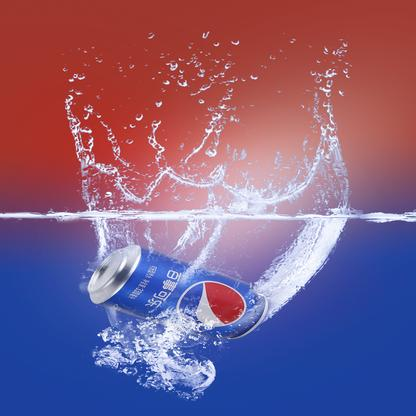can: (82, 246, 271, 340)
